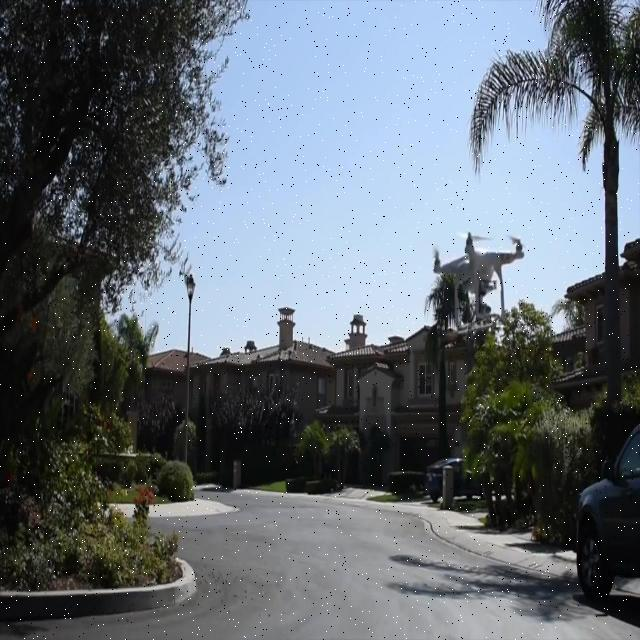UAV: (432, 230, 526, 336)
